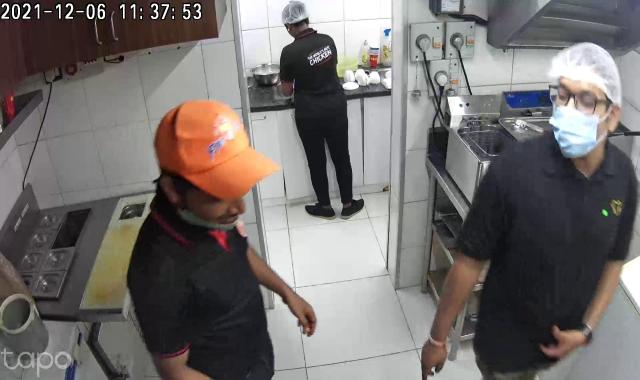hairnet: (543, 37, 631, 108), (280, 0, 312, 26)
no_hairnet: (146, 106, 275, 200)
